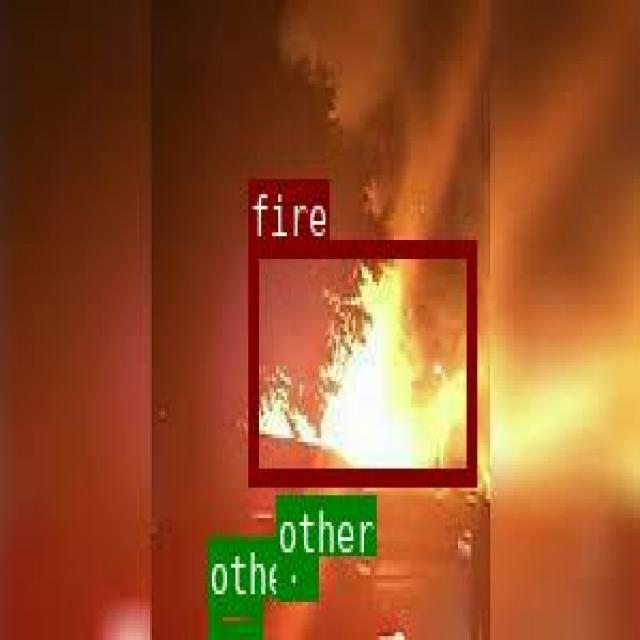fire: (247, 238, 474, 482)
